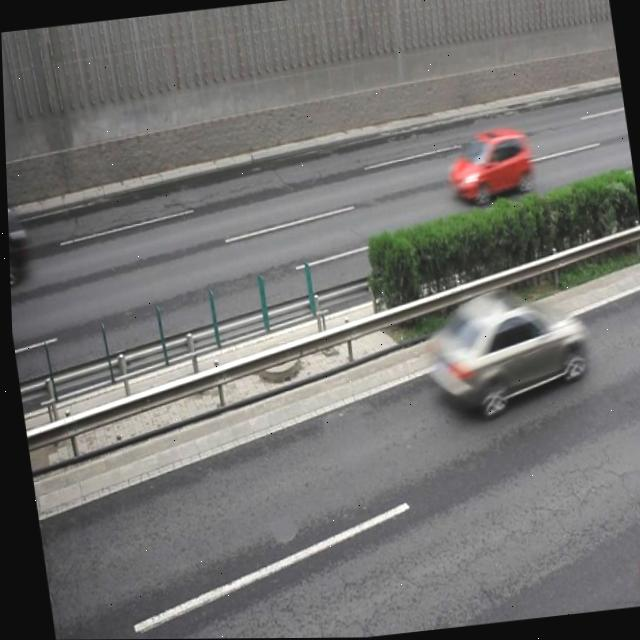car: (418, 280, 589, 422), (442, 125, 535, 205)
